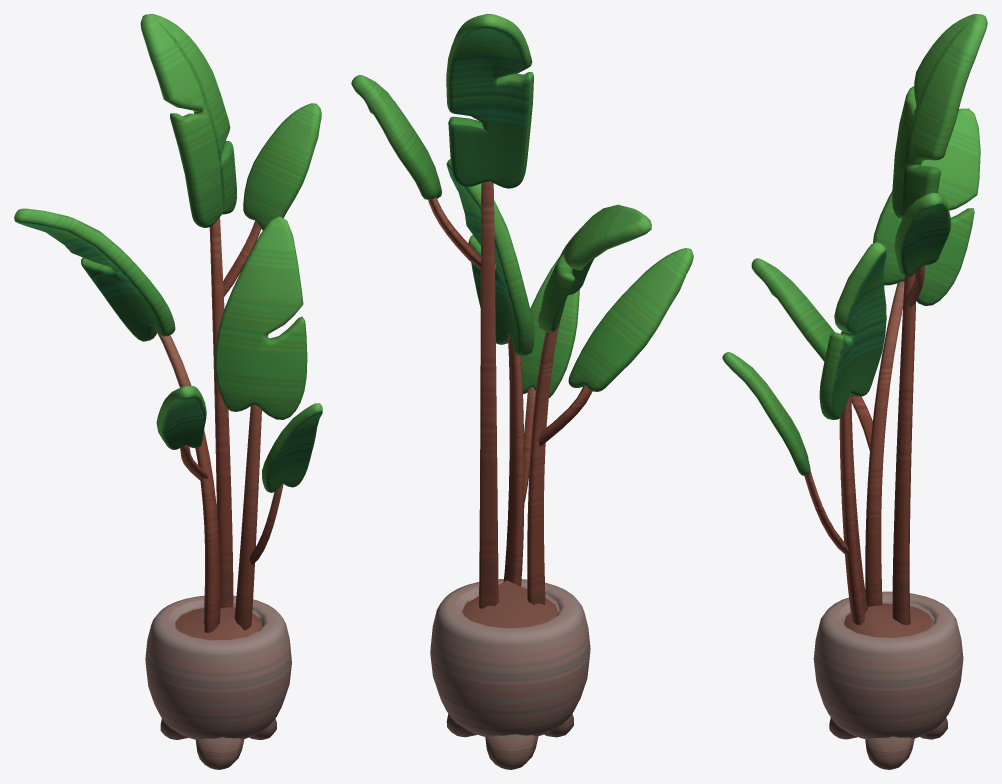
Rendered from plants-19.glb.
3 views of the same model, side by side, from view 1: azimuth 30°, elevation 25°; view 2: azimuth 150°, elevation 25°; view 3: azimuth 270°, elevation 25° (orthographic). The views are drawn at different scales.
Visible parts, largest first — view 1: Plants_19; view 2: Plants_19; view 3: Plants_19.
Part boxes in pixels (x1,y1,x2,y2): Plants_19: (14, 14, 322, 769); Plants_19: (351, 14, 693, 769); Plants_19: (722, 14, 987, 769).
Size of the model in its own units: 1.23 by 2.88 by 0.961.
1 material, 1 textured.
